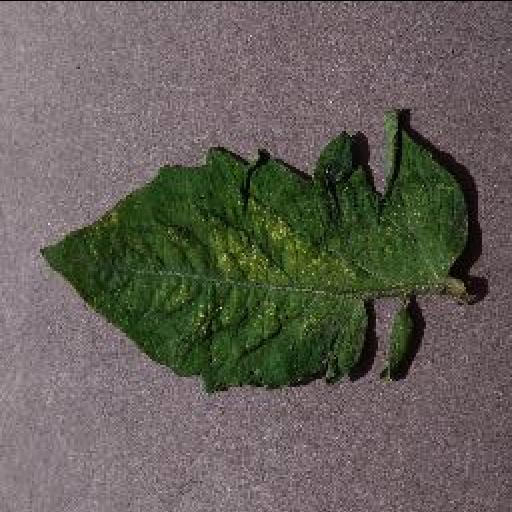disease_tomato: (36, 108, 470, 392)
